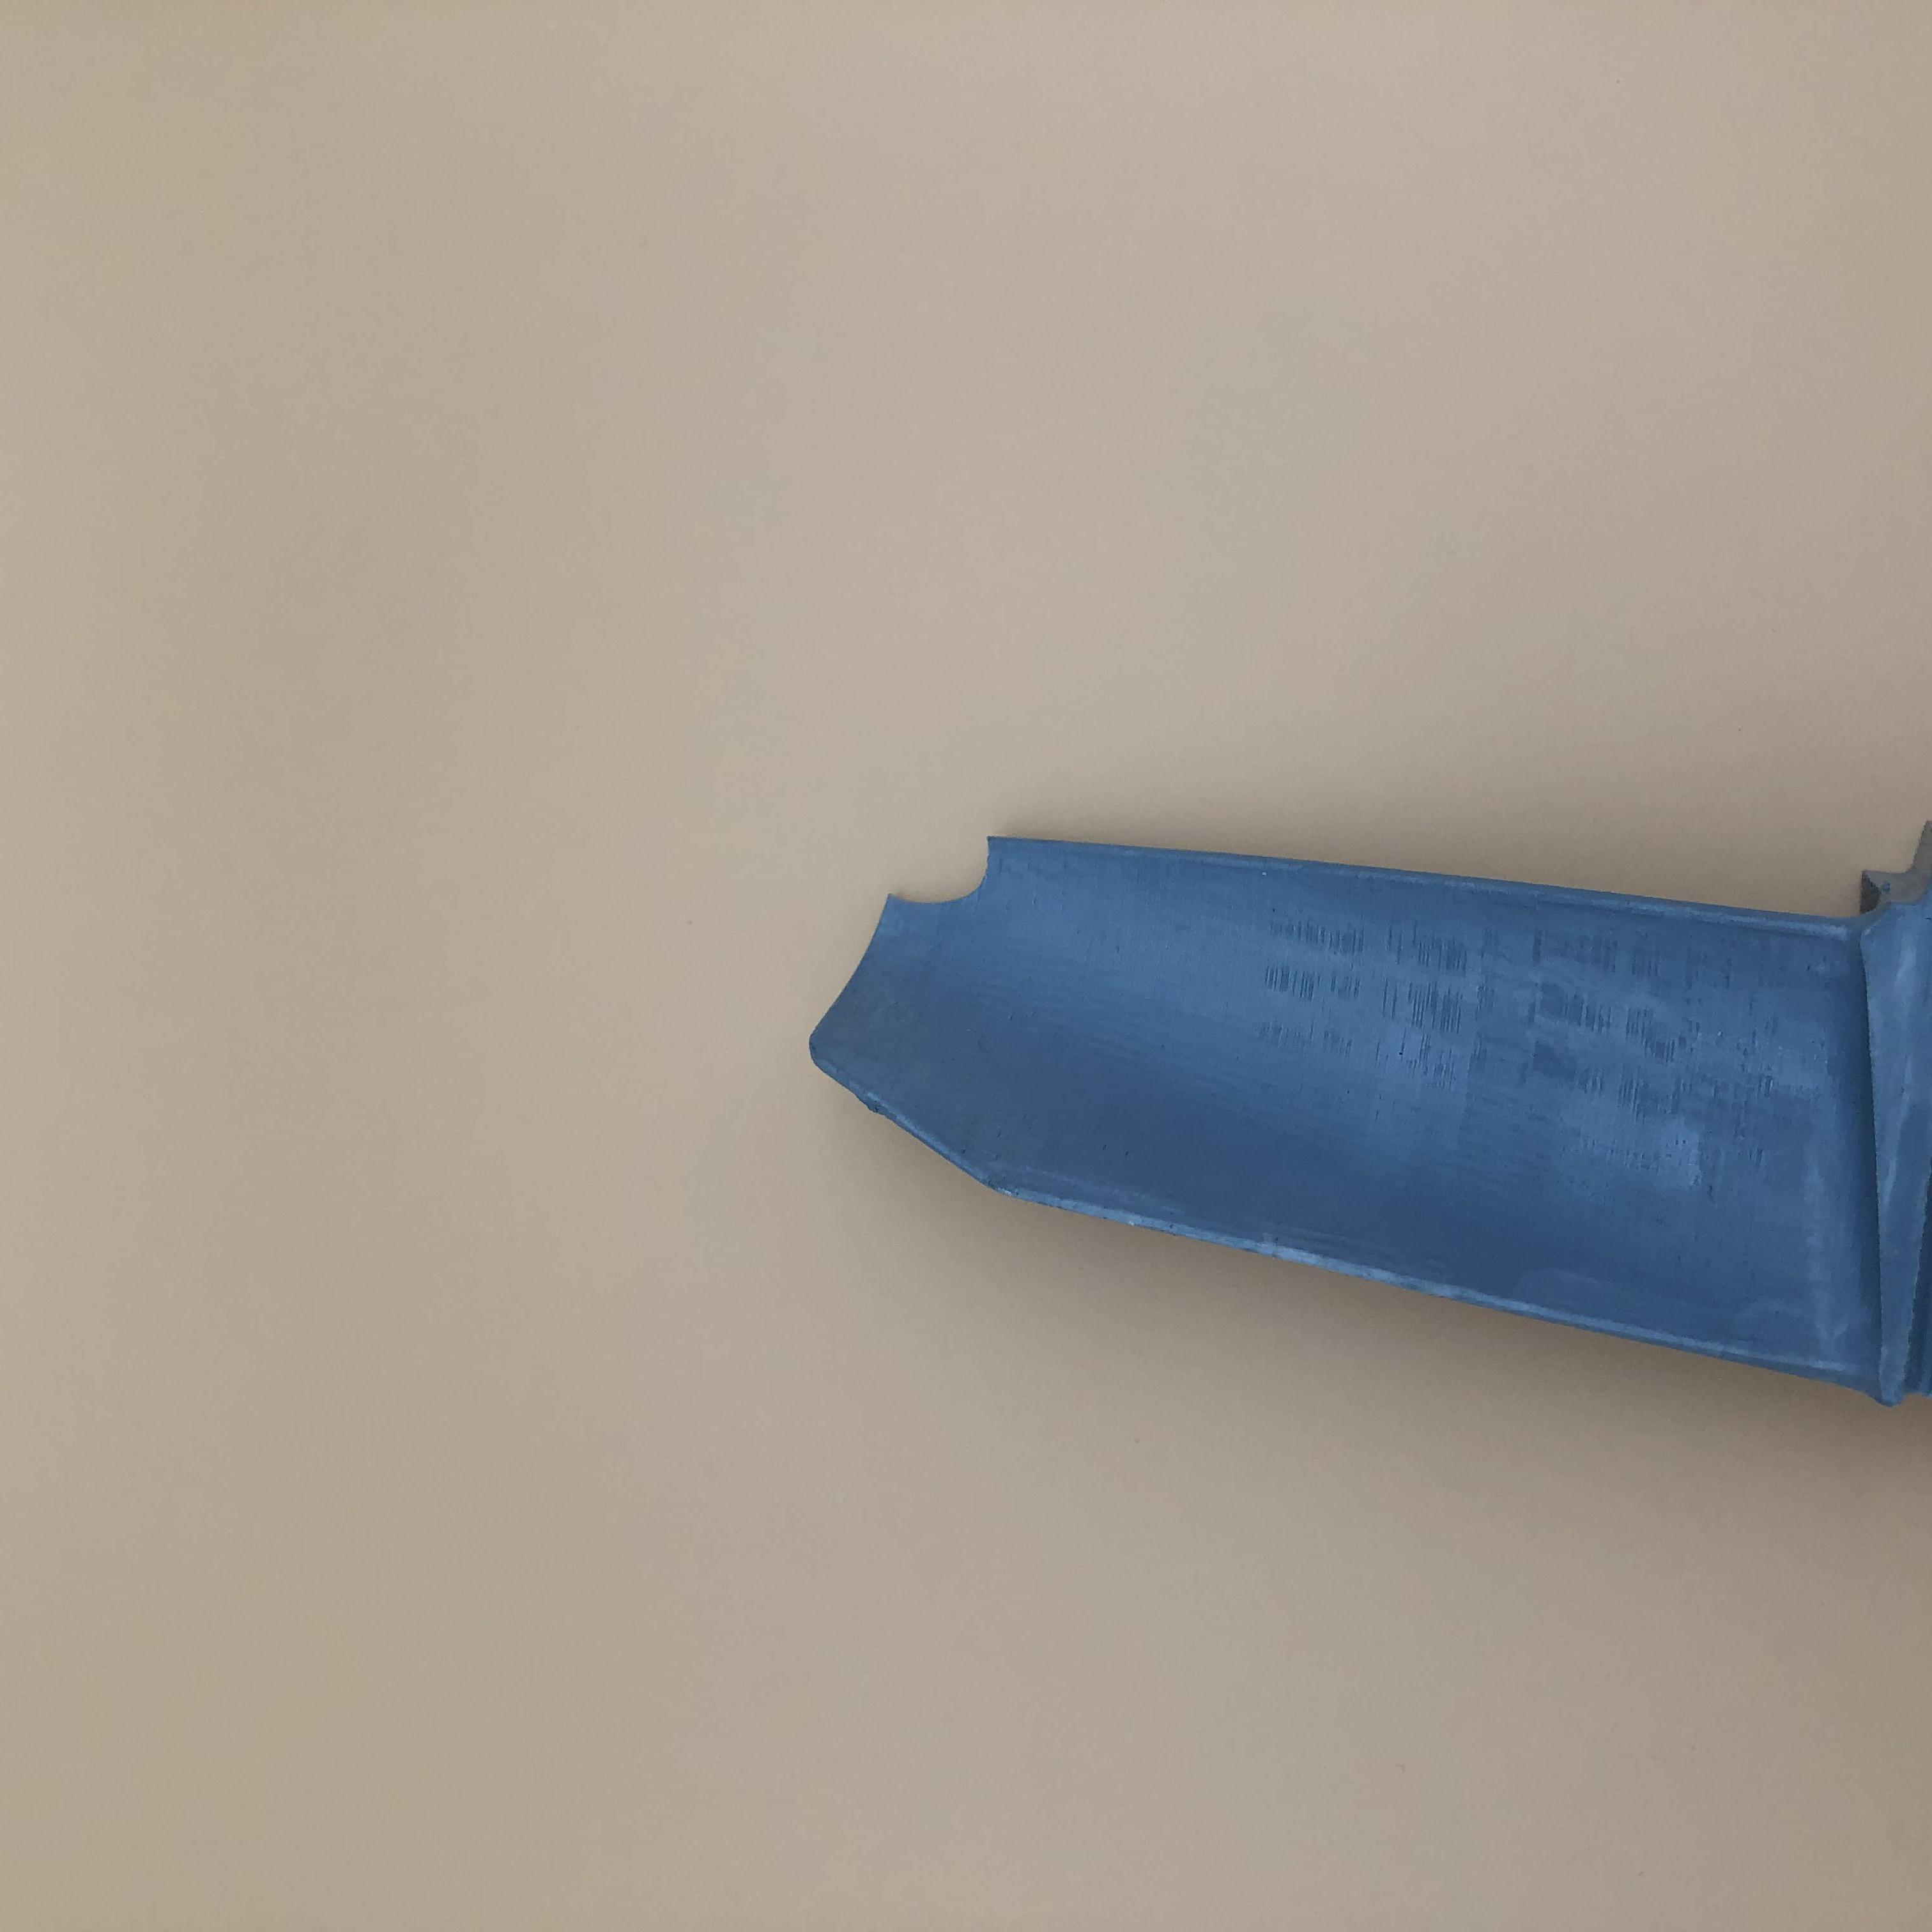fracture: (874, 847, 1037, 925)
